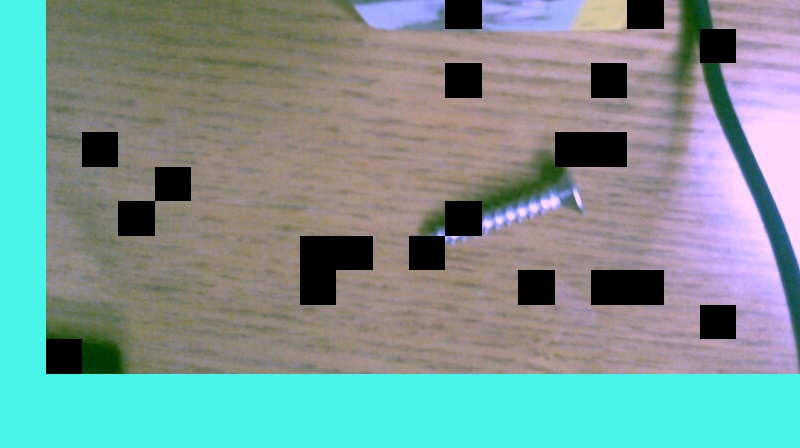S001: (418, 160, 585, 249)
